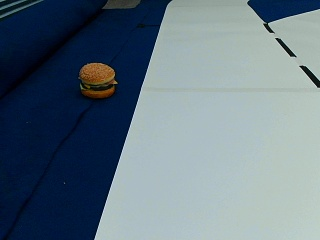burger: (77, 61, 116, 97)
